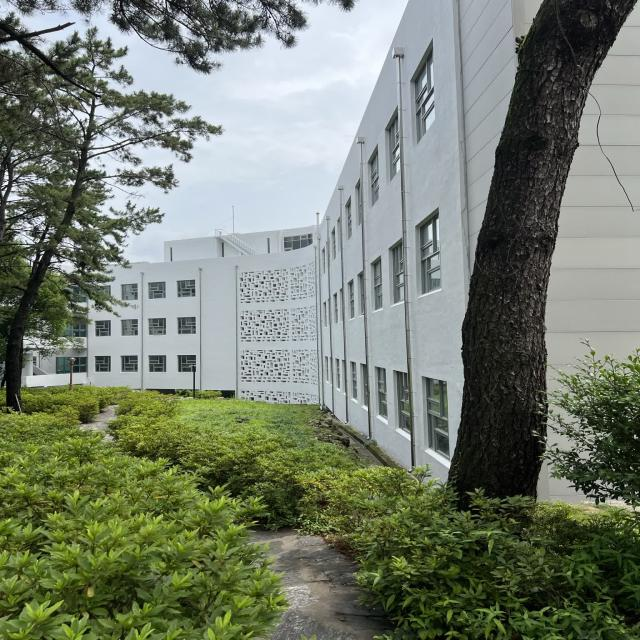building: (129, 218, 446, 408)
